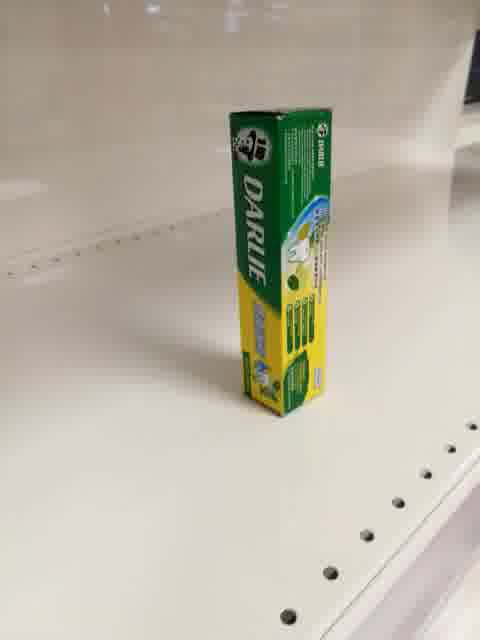toothpaste: (227, 106, 334, 420)
